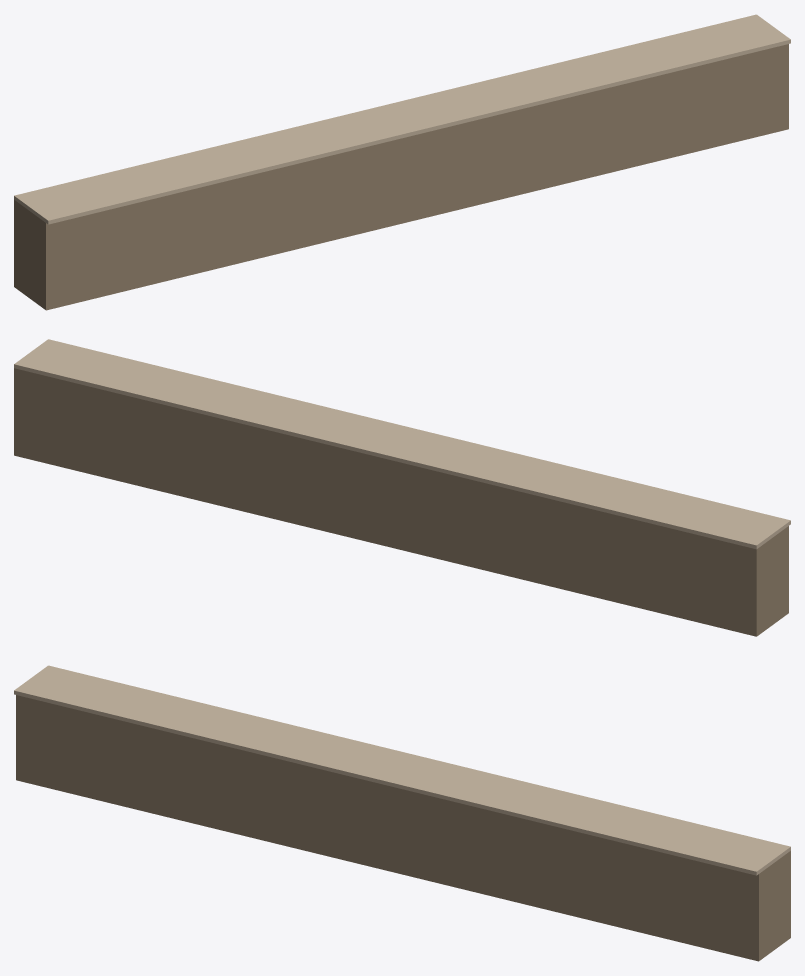
The model's file is city_curb_4.glb.
The picture shows the model from 3 angles, top to bottom: view 1: azimuth 30°, elevation 25°; view 2: azimuth 150°, elevation 25°; view 3: azimuth 330°, elevation 25°; orthographic projection.
Visible parts, largest first — view 1: CityCurb4_Kerb, CityCurb4_KerbTop; view 2: CityCurb4_Kerb, CityCurb4_KerbTop; view 3: CityCurb4_Kerb, CityCurb4_KerbTop.
Boxes of the visible parts, x1,y1,x2,y2 form: CityCurb4_Kerb: (14, 44, 788, 310); CityCurb4_KerbTop: (14, 14, 790, 224); CityCurb4_Kerb: (14, 368, 788, 636); CityCurb4_KerbTop: (14, 339, 790, 549); CityCurb4_Kerb: (16, 695, 790, 961); CityCurb4_KerbTop: (14, 665, 790, 875).
Size of the model in its own units: 4 by 0.47 by 0.32.
